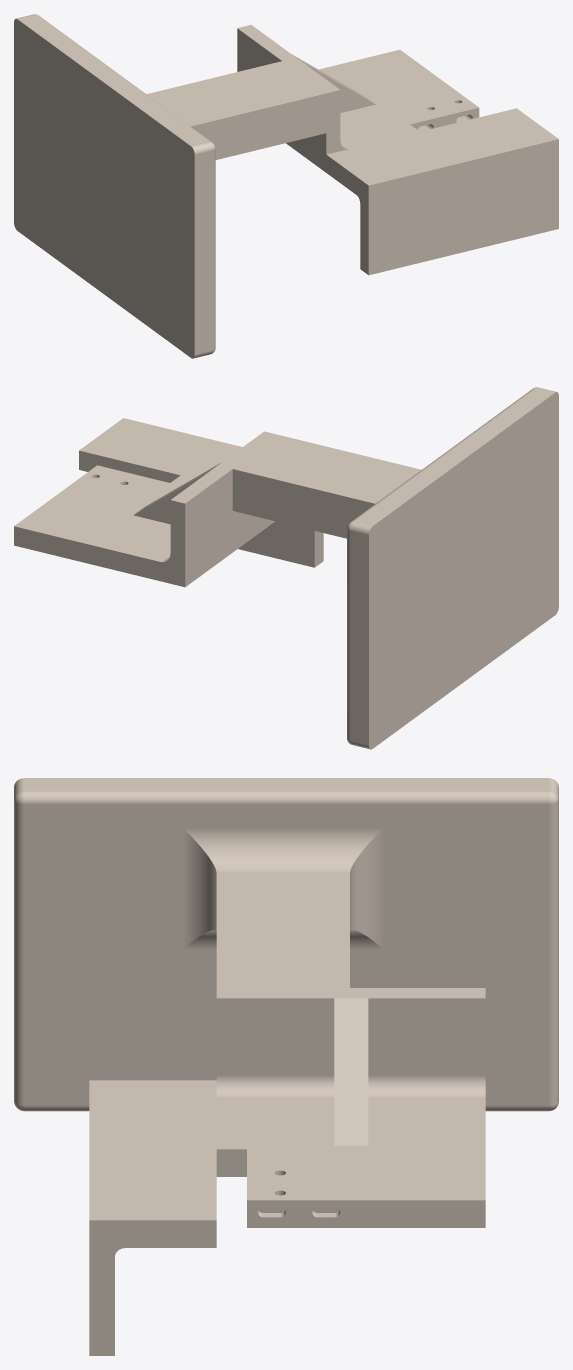
Rendered from base_edm_machine_main.glb.
3 views of the same model, one above another, from view 1: azimuth 30°, elevation 25°; view 2: azimuth 150°, elevation 25°; view 3: azimuth 270°, elevation 25° (orthographic). The views are drawn at different scales.
Visible parts, largest first — view 1: base edm machine main; view 2: base edm machine main; view 3: base edm machine main.
Part boxes in pixels (bbox=[...]): base edm machine main: bbox=[14, 14, 558, 358]; base edm machine main: bbox=[14, 387, 558, 749]; base edm machine main: bbox=[14, 778, 558, 1355].
Size of the model in its own units: 0.1996 by 0.1038 by 0.1605.
